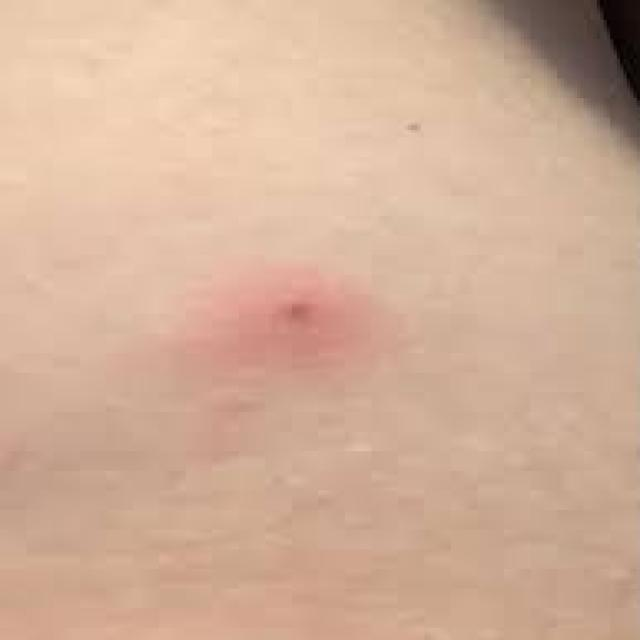kene: (252, 272, 341, 346)
